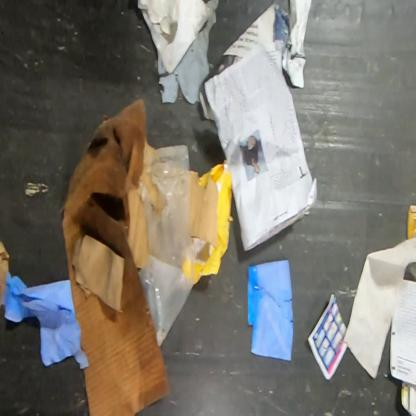cardboard: (62, 99, 171, 415), (189, 170, 218, 249), (0, 238, 10, 308)
soft_plastic: (136, 145, 193, 352)
